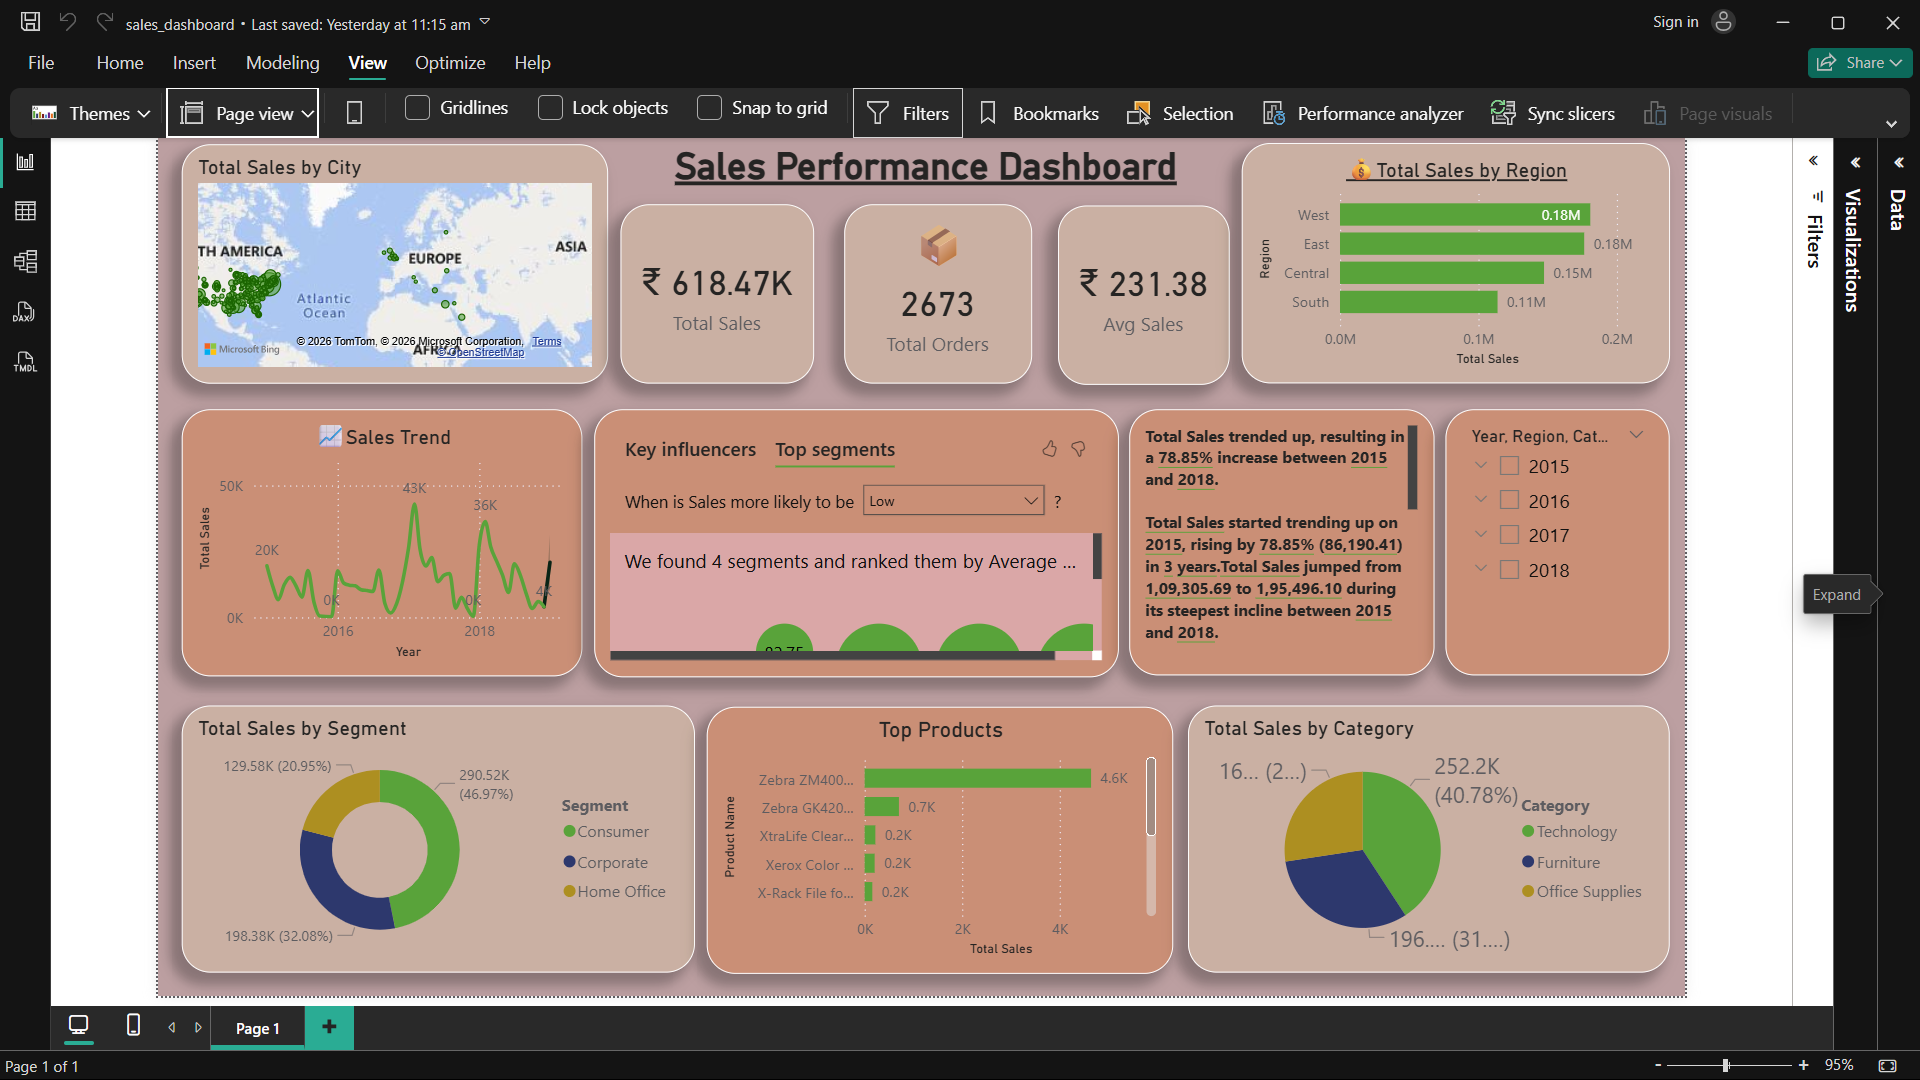

What the dashboard file says about the page in this screenshot:
{"tool":"powerbi","page":{"name":"Page 1","canvas":[1280,720],"ordinal":0},"visuals":[{"type":"lineChart","title":"📈Sales Trend ","fields":{"Y":["cleaned_sales.Total Sales"],"Category":["cleaned_sales.Order Date.Variation.Date Hierarchy.Year","cleaned_sales.Order Date.Variation.Date Hierarchy.Month","cleaned_sales.Order Date.Variation.Date Hierarchy.Day"]},"box":[20,227.5,336.2,223.8],"z":0},{"type":"barChart","title":"💰Total Sales by Region","fields":{"Category":["cleaned_sales.Region"],"Y":["cleaned_sales.Total Sales"]},"box":[908.7,4.2,358.9,201.5],"z":1000},{"type":"pieChart","fields":{"Category":["cleaned_sales.Category"],"Y":["cleaned_sales.Total Sales"]},"box":[863.8,476.2,403.8,223.8],"z":2000},{"type":"barChart","title":"Top Products","fields":{"Category":["cleaned_sales.Product Name"],"Y":["cleaned_sales.Total Sales"]},"box":[460,477.5,391.2,223.8],"z":3000},{"type":"map","fields":{"Category":["cleaned_sales.City"],"Size":["cleaned_sales.Total Sales"]},"box":[19.9,5.2,357.8,200.4],"z":4000},{"type":"donutChart","fields":{"Category":["cleaned_sales.Segment"],"Y":["cleaned_sales.Total Sales"]},"box":[20,476.2,430,223.8],"z":5000},{"type":"slicer","fields":{"Values":["cleaned_sales.Year","cleaned_sales.Region","cleaned_sales.Category"]},"box":[1079.8,227.7,187.8,223.5],"z":6000},{"type":"card","fields":{"Values":["cleaned_sales.Total Sales"]},"box":[388.3,55.6,162.6,150.1],"z":7000},{"type":"card","title":"📦","fields":{"Values":["cleaned_sales.Total Orders"]},"box":[575,55.6,157.4,150.1],"z":8000},{"type":"card","fields":{"Values":["cleaned_sales.Avg Sales"]},"box":[754.5,56.7,143.8,150.1],"z":9000},{"type":"textbox","box":[814.3,227.7,256,223.5],"z":10000},{"type":"keyDriversVisual","fields":{"Target":["cleaned_sales.Sales"],"ExplainBy":["cleaned_sales.Region","cleaned_sales.Category","cleaned_sales.Segment","cleaned_sales.Product Name"]},"box":[366.2,227.7,439.7,224.6],"z":11000},{"type":"textbox","title":"Sales Performance Dashboard","box":[388.8,5,510,41.2],"z":12000}]}

Visuals, with their boxes in screenshot pixels (x1, y1, x2, y2):
"📈Sales Trend " lineChart: (left=44, top=325, right=523, bottom=644)
"💰Total Sales by Region" barChart: (left=1312, top=6, right=1824, bottom=293)
pieChart - cleaned_sales.Category x cleaned_sales.Total Sales: (left=1247, top=679, right=1824, bottom=999)
"Top Products" barChart: (left=671, top=681, right=1230, bottom=1001)
map - cleaned_sales.City x cleaned_sales.Total Sales: (left=43, top=7, right=554, bottom=293)
donutChart - cleaned_sales.Segment x cleaned_sales.Total Sales: (left=44, top=679, right=657, bottom=999)
slicer - cleaned_sales.Year x cleaned_sales.Region: (left=1556, top=325, right=1824, bottom=644)
card - cleaned_sales.Total Sales: (left=569, top=79, right=801, bottom=293)
"📦" card: (left=835, top=79, right=1060, bottom=293)
card - cleaned_sales.Avg Sales: (left=1092, top=81, right=1297, bottom=295)
textbox: (left=1177, top=325, right=1542, bottom=644)
keyDriversVisual - cleaned_sales.Sales x cleaned_sales.Region: (left=538, top=325, right=1165, bottom=645)
"Sales Performance Dashboard" textbox: (left=570, top=7, right=1297, bottom=66)
